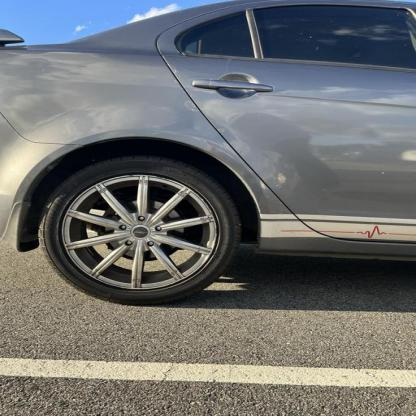Tire: (39, 155, 242, 305)
